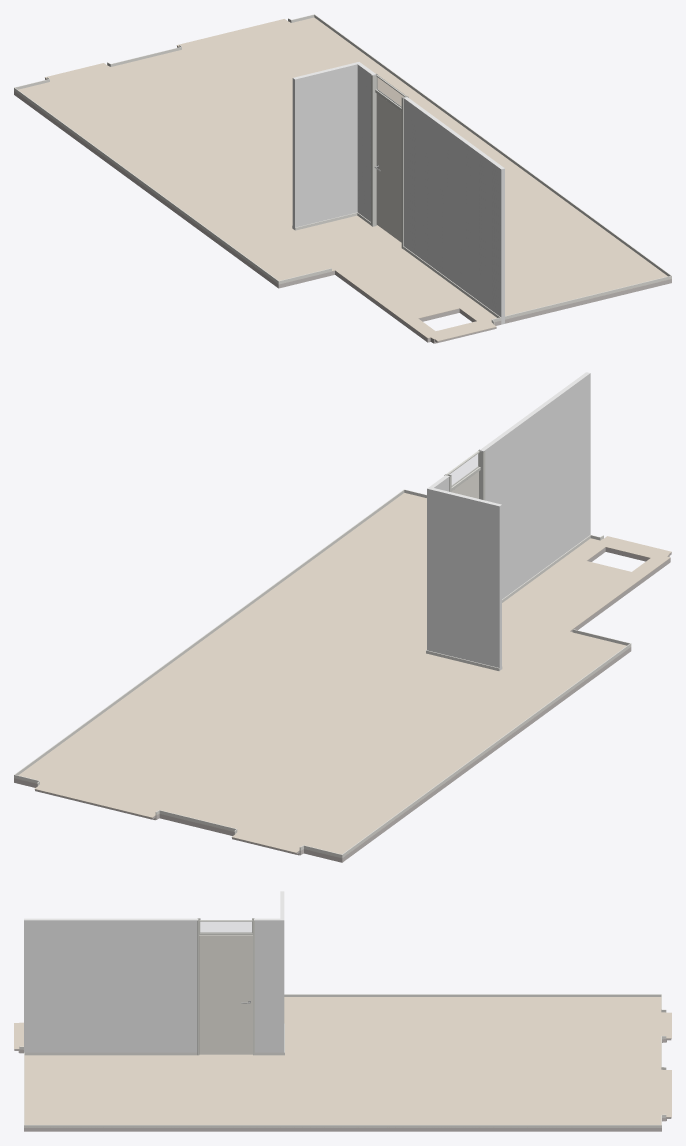
3 views of the same model, one above another, from view 1: azimuth 30°, elevation 25°; view 2: azimuth 150°, elevation 25°; view 3: azimuth 270°, elevation 25° (orthographic). The views are drawn at different scales.
Visible parts, largest first — view 1: [6724139]43_VWN_vloerafwerking, [6724866]22_Gasbeton 70mm_Ytong G4/600, [6724867]22_Gasbeton 70mm_Ytong G4/600, [6724868]merk a.sp, [6724085]Railings 1, [6724015]43_Afwerkvloer 70mm; view 2: [6724139]43_VWN_vloerafwerking, [6724866]22_Gasbeton 70mm_Ytong G4/600, [6724867]22_Gasbeton 70mm_Ytong G4/600, [6724085]Railings 1, [6724015]43_Afwerkvloer 70mm, [6724868]merk a.sp; view 3: [6724139]43_VWN_vloerafwerking, [6724866]22_Gasbeton 70mm_Ytong G4/600, [6724868]merk a.sp, [6724085]Railings 1, [6724015]43_Afwerkvloer 70mm.
Boxes of the visible parts, x1,y1,x2,y2 form: [6724139]43_VWN_vloerafwerking: [16, 17, 668, 341]; [6724866]22_Gasbeton 70mm_Ytong G4/600: [356, 62, 504, 324]; [6724867]22_Gasbeton 70mm_Ytong G4/600: [292, 62, 357, 229]; [6724868]merk a.sp: [371, 73, 408, 248]; [6724085]Railings 1: [14, 14, 671, 324]; [6724015]43_Afwerkvloer 70mm: [14, 91, 671, 343]; [6724139]43_VWN_vloerafwerking: [15, 493, 671, 857]; [6724866]22_Gasbeton 70mm_Ytong G4/600: [427, 372, 590, 651]; [6724867]22_Gasbeton 70mm_Ytong G4/600: [431, 488, 501, 670]; [6724085]Railings 1: [14, 489, 631, 858]; [6724015]43_Afwerkvloer 70mm: [14, 547, 670, 862]; [6724868]merk a.sp: [444, 449, 485, 500]; [6724139]43_VWN_vloerafwerking: [14, 997, 671, 1127]; [6724866]22_Gasbeton 70mm_Ytong G4/600: [24, 918, 284, 1052]; [6724868]merk a.sp: [197, 918, 254, 1055]; [6724085]Railings 1: [19, 994, 666, 1127]; [6724015]43_Afwerkvloer 70mm: [18, 1038, 666, 1131].
Size of the model in its own units: 5.45 by 2.69 by 11.57.
